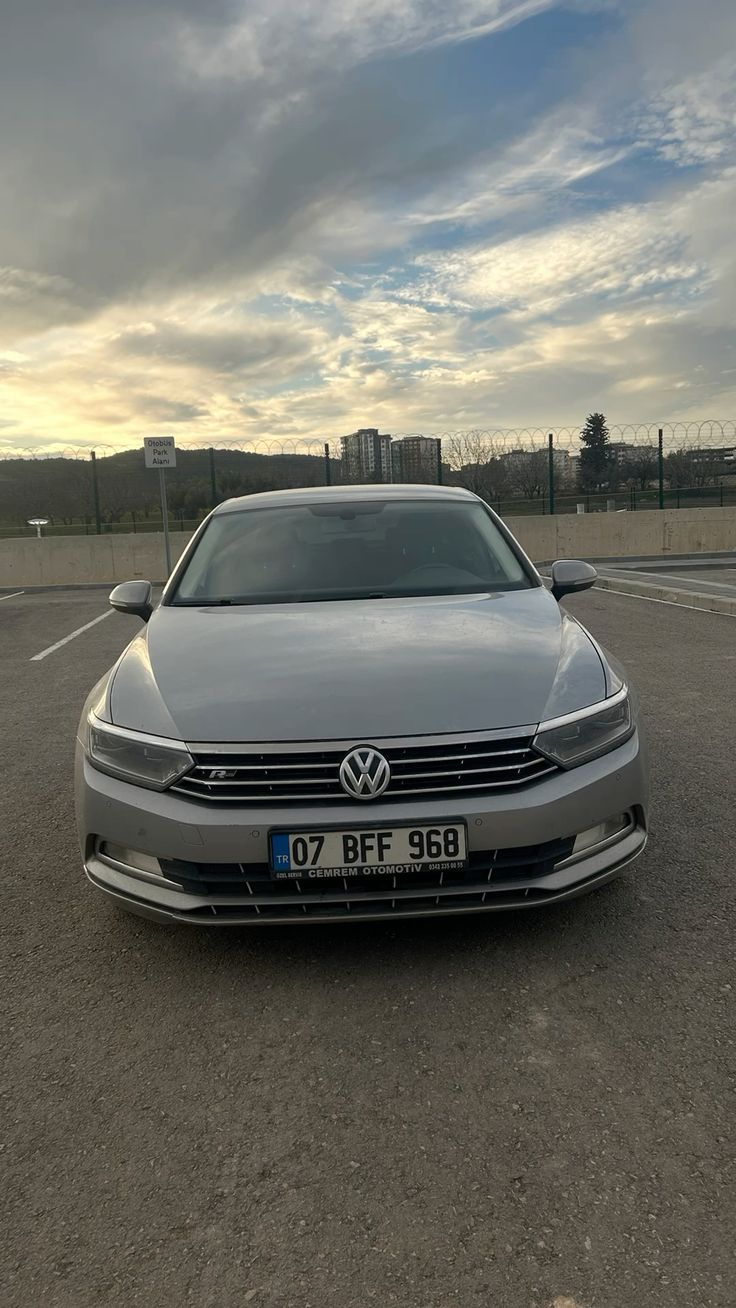plate: (269, 822, 465, 882)
